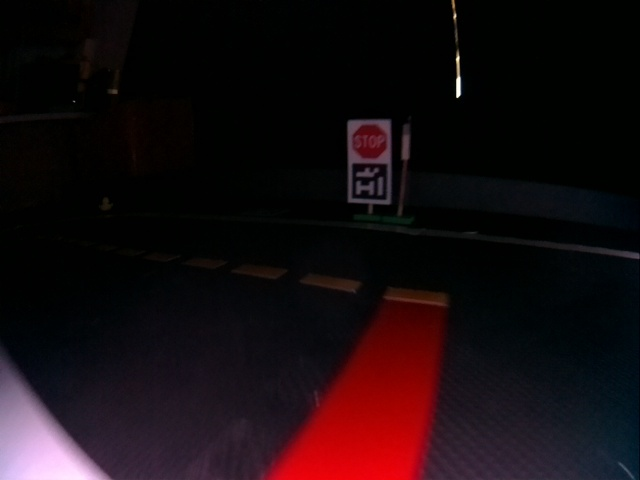Duckie: (98, 196, 111, 210)
QR code: (349, 162, 388, 203)
Stop sign: (348, 121, 387, 161)
